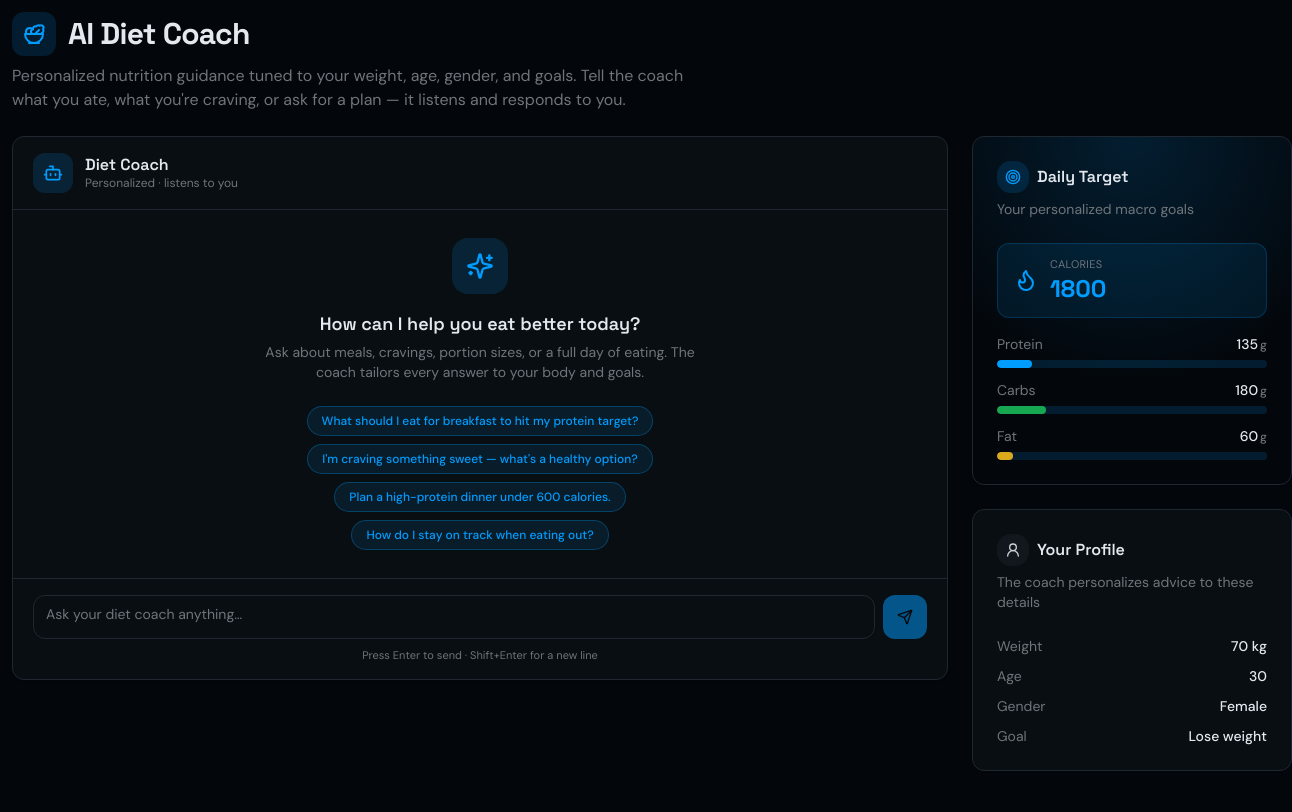
Test: DietCoach › sends the user's message to the diet coach with their profile and shows the reply
In the text box named "Message your coach": (454, 616) x1=33 y1=594 x2=875 y2=638, type "What should I eat for breakfast?"
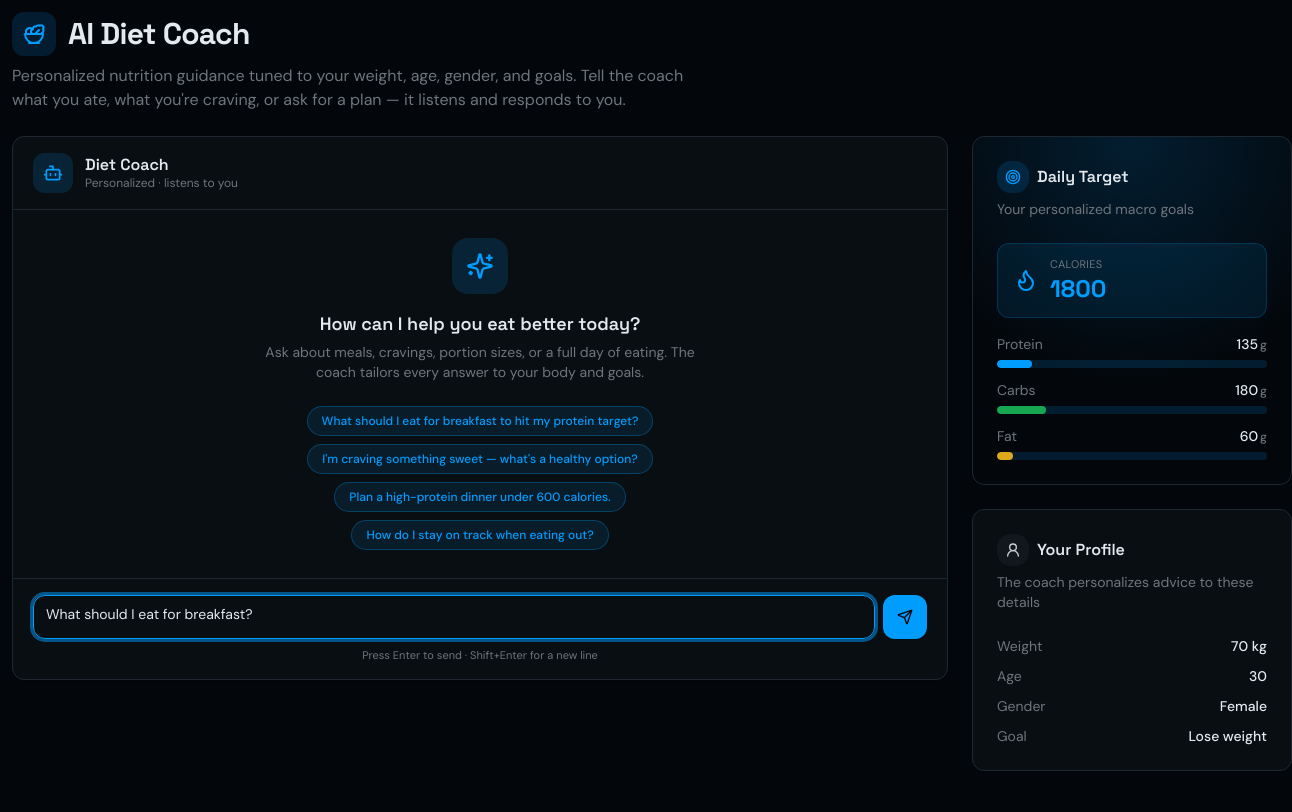
Click the button named "Send message": (905, 616) x1=883 y1=594 x2=927 y2=638
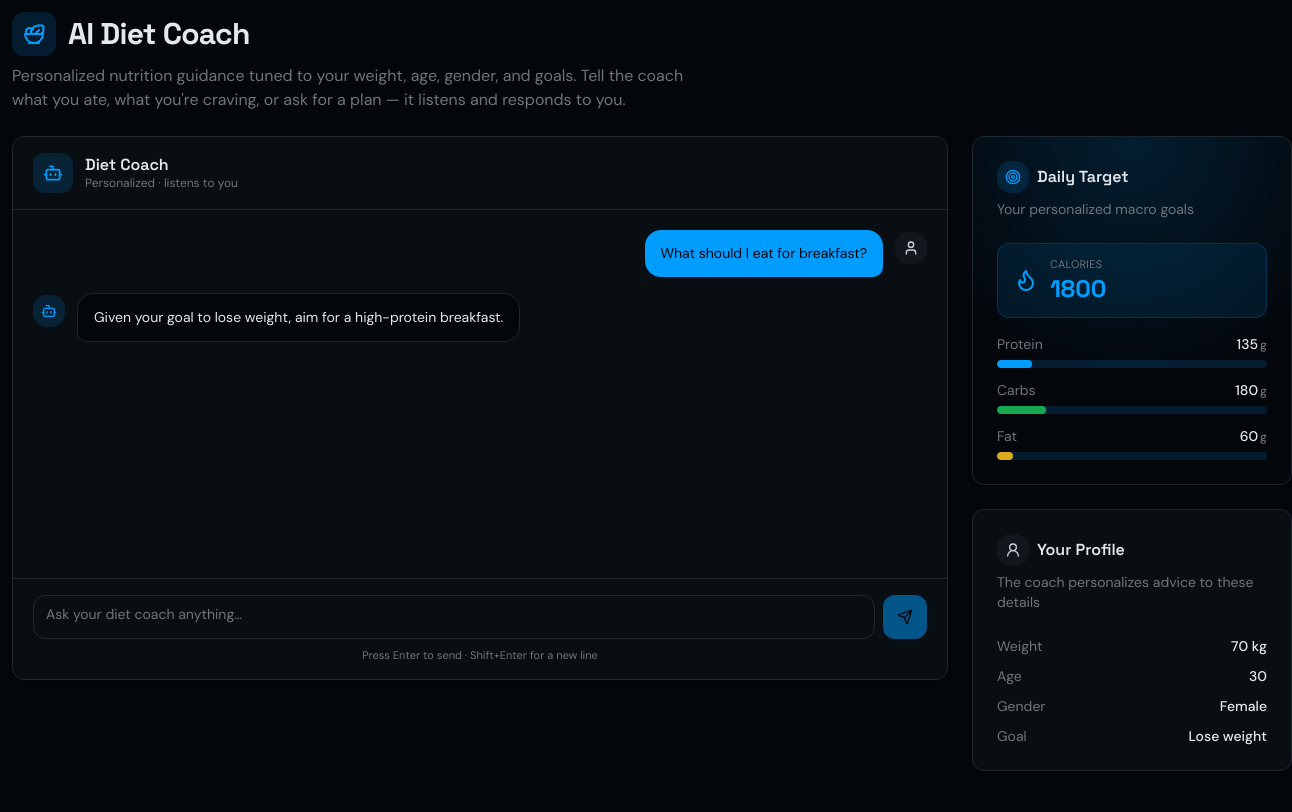
Now the text "Given your goal to lose weight, aim for a high-protein breakfast." is shown, box x1=77 y1=293 x2=520 y2=342
